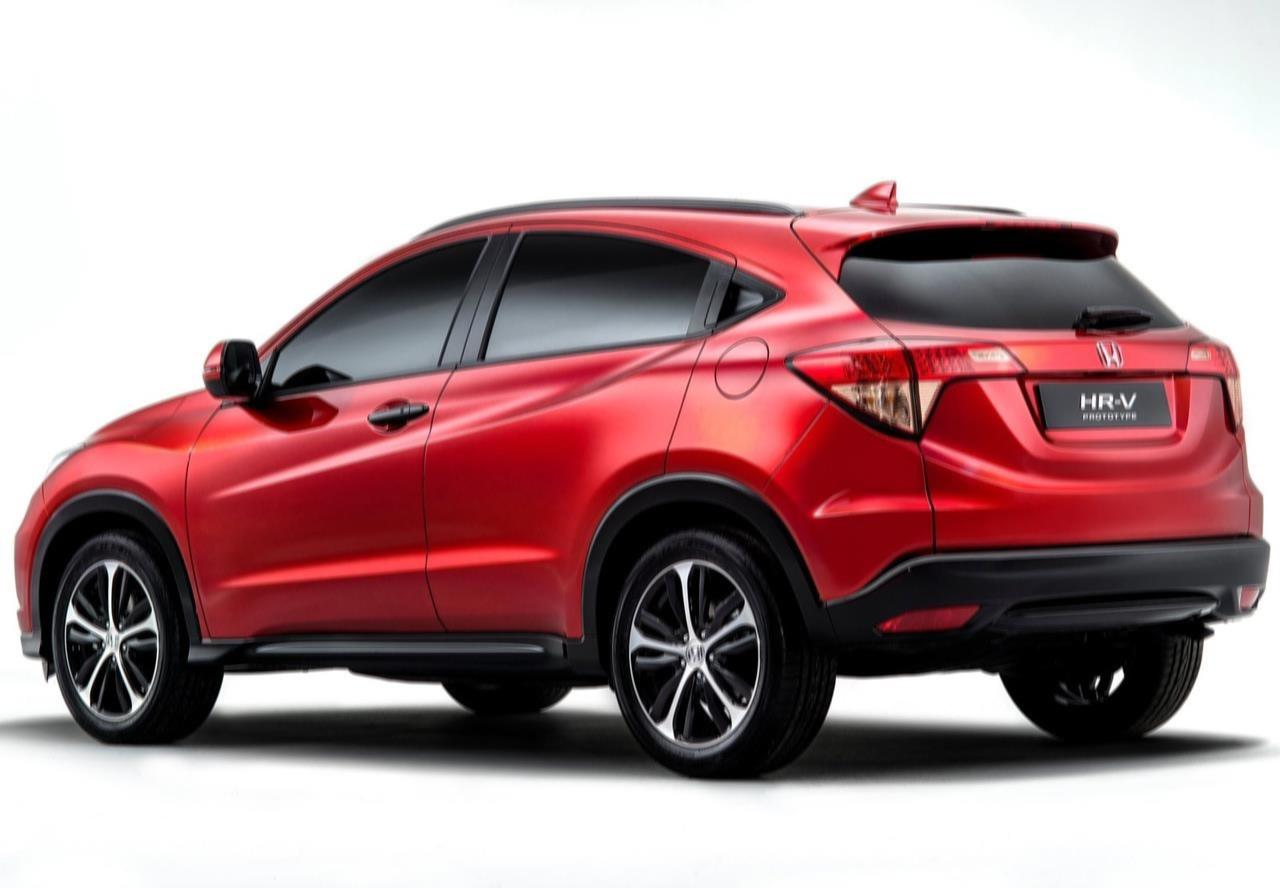Car boot: (785, 199, 1257, 556)
Car hood: (62, 392, 195, 450)
Fender - -F-L-: (39, 391, 224, 654)
Fender - -R-L-: (659, 325, 824, 524)
Front bumper: (5, 482, 57, 681)
Passenger-s door - -F-L-: (182, 224, 497, 648)
Passenger-s door - -R-L-: (426, 223, 740, 652)
Rear bumper: (754, 404, 1279, 660)
Rear light - -L-: (776, 329, 1032, 445)
Rear light - -R-: (1180, 325, 1250, 441)
Side bumper - -L-: (175, 625, 619, 690)
Side mirror - -L-: (195, 330, 272, 415)
